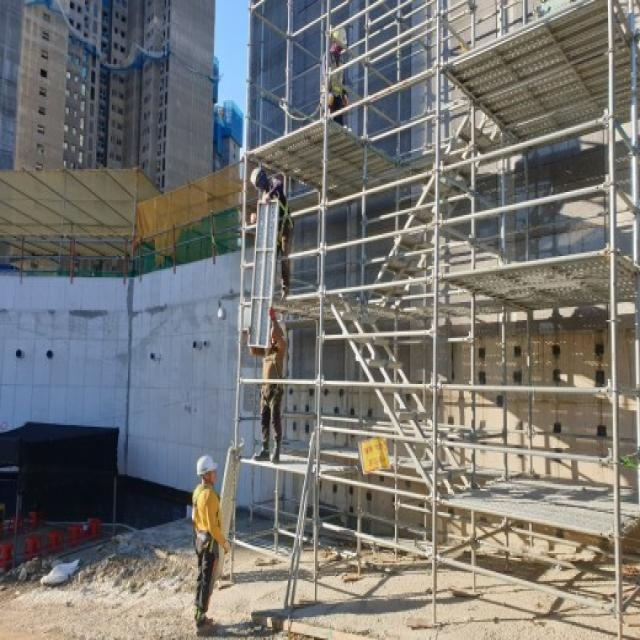Arnes_seguridad: (191, 485, 222, 554), (273, 189, 293, 243), (263, 341, 285, 389), (327, 66, 347, 107)
